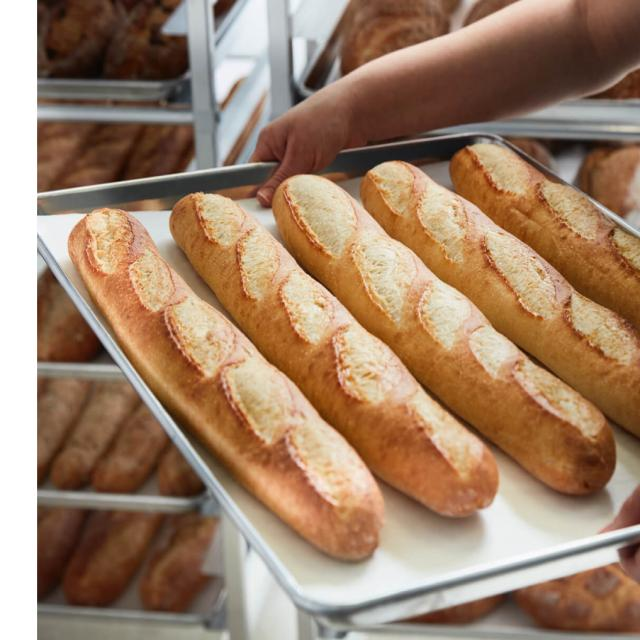Baguette: (69, 210, 383, 559), (272, 175, 615, 493), (170, 193, 498, 516), (360, 161, 639, 421), (451, 144, 639, 333)
